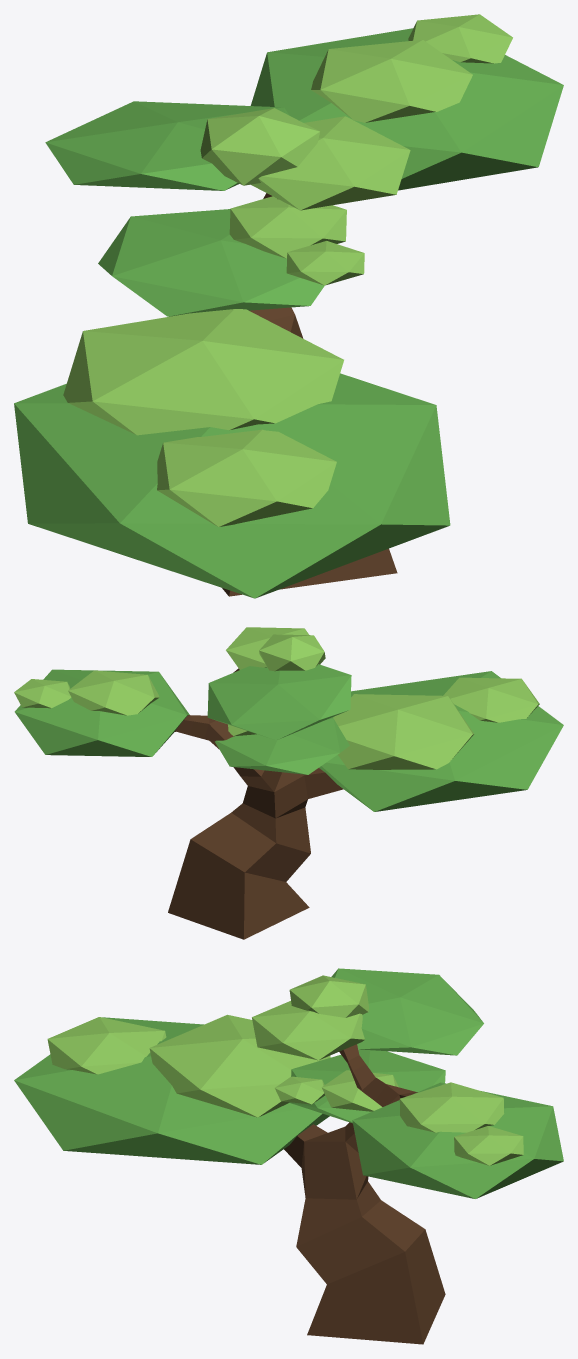
The model's file is SmallApple.glb.
The picture shows the model from 3 angles, top to bottom: view 1: azimuth 30°, elevation 25°; view 2: azimuth 150°, elevation 25°; view 3: azimuth 270°, elevation 25°; orthographic projection. The views are drawn at different scales.
Parts seen in each view (by area): view 1: SM_Tree_small; view 2: SM_Tree_small; view 3: SM_Tree_small.
Part boxes in pixels (<box>): SM_Tree_small: <box>14,14,563,598</box>; SM_Tree_small: <box>14,627,563,939</box>; SM_Tree_small: <box>14,968,563,1344</box>.
Size of the model in its own units: 6.43 by 4.15 by 6.57.
